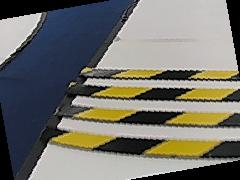bump: (51, 58, 237, 163)
